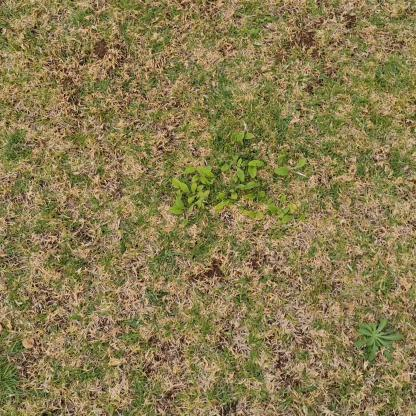Weeds: (169, 132, 308, 227), (355, 317, 403, 363)
